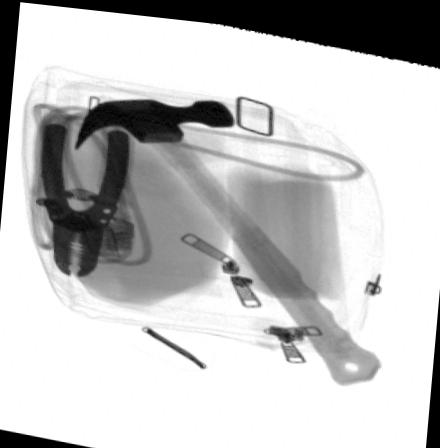Hammer: (74, 93, 382, 379)
Pliers: (32, 114, 135, 274)
